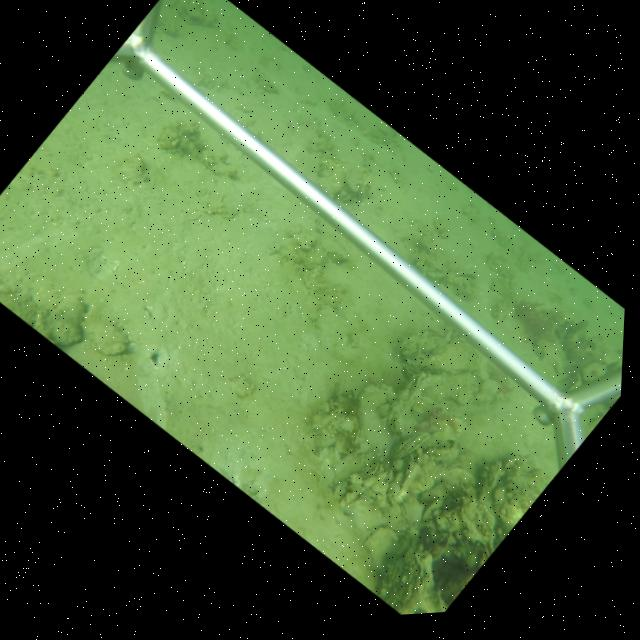Oyster-Closed: (380, 542, 428, 614), (356, 384, 393, 457), (361, 522, 404, 570), (52, 295, 86, 348), (392, 380, 422, 439), (389, 432, 428, 462), (478, 459, 501, 499), (444, 465, 477, 489)
Oyster-Indeterminate: (419, 340, 480, 375), (317, 156, 345, 195), (345, 166, 370, 194)
Oyster-Open: (446, 268, 478, 288)
